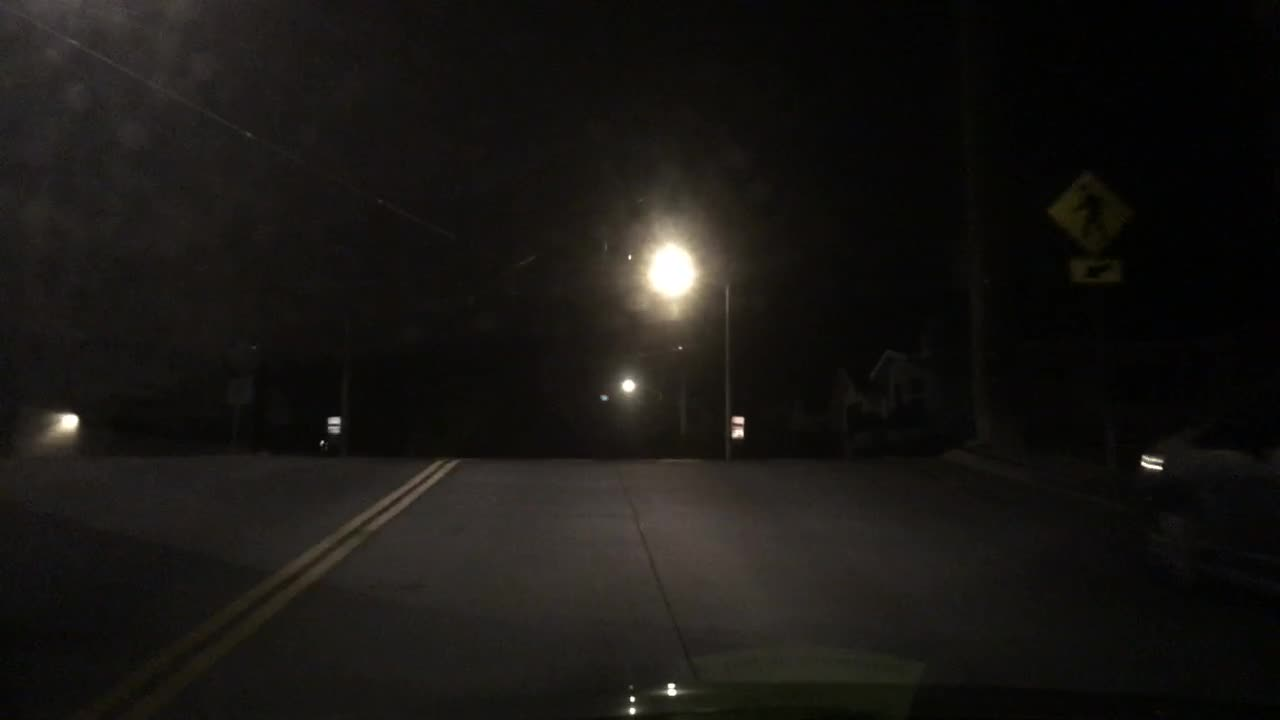car: (1130, 405, 1280, 597)
traffic sign: (1045, 173, 1129, 247), (1071, 257, 1120, 283), (729, 411, 743, 437), (325, 414, 341, 436)
